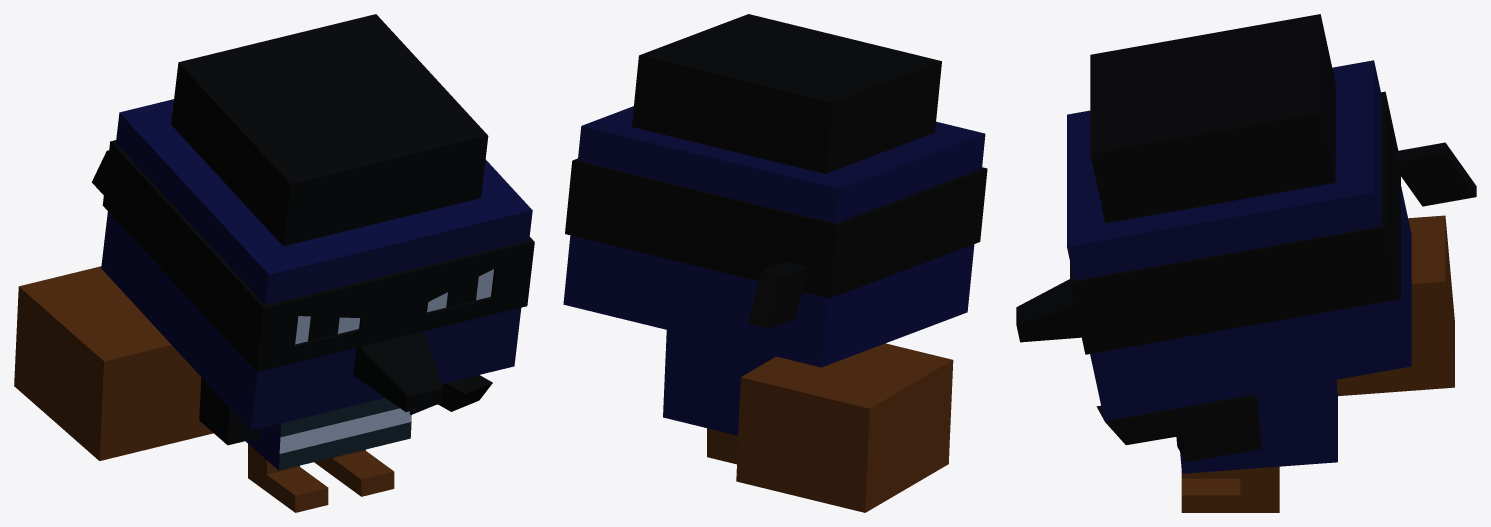
File: magpie_pick.glb
3 renders of one model, left to right at view 1: azimuth 30°, elevation 25°; view 2: azimuth 150°, elevation 25°; view 3: azimuth 270°, elevation 25°, orthographic. The views are drawn at different scales.
Visible parts, largest first — view 1: magpiePick_head_MSH, magpiePick_R_arm_MSH, magpiePick_body_MSH, magpiePick_R_leg_MSH, magpiePick_L_leg_MSH, magpiePick_L_arm_MSH; view 2: magpiePick_head_MSH, magpiePick_R_arm_MSH, magpiePick_body_MSH, magpiePick_L_leg_MSH; view 3: magpiePick_head_MSH, magpiePick_R_arm_MSH, magpiePick_body_MSH, magpiePick_L_arm_MSH, magpiePick_L_leg_MSH.
Boxes of the visible parts, bbox=[...] form: magpiePick_head_MSH: bbox=[92, 14, 534, 430]; magpiePick_R_arm_MSH: bbox=[14, 266, 260, 460]; magpiePick_body_MSH: bbox=[245, 398, 411, 470]; magpiePick_R_leg_MSH: bbox=[248, 444, 328, 512]; magpiePick_L_leg_MSH: bbox=[314, 449, 394, 496]; magpiePick_L_arm_MSH: bbox=[409, 375, 492, 414]; magpiePick_head_MSH: bbox=[563, 14, 987, 367]; magpiePick_R_arm_MSH: bbox=[736, 343, 953, 512]; magpiePick_body_MSH: bbox=[663, 330, 775, 435]; magpiePick_L_leg_MSH: bbox=[707, 428, 738, 464]; magpiePick_head_MSH: bbox=[1016, 14, 1476, 420]; magpiePick_R_arm_MSH: bbox=[1336, 215, 1454, 396]; magpiePick_body_MSH: bbox=[1180, 380, 1337, 473]; magpiePick_L_arm_MSH: bbox=[1096, 394, 1261, 461]; magpiePick_L_leg_MSH: bbox=[1181, 466, 1279, 512].
Size of the model in its own units: 0.8425 by 0.998 by 0.9803.
